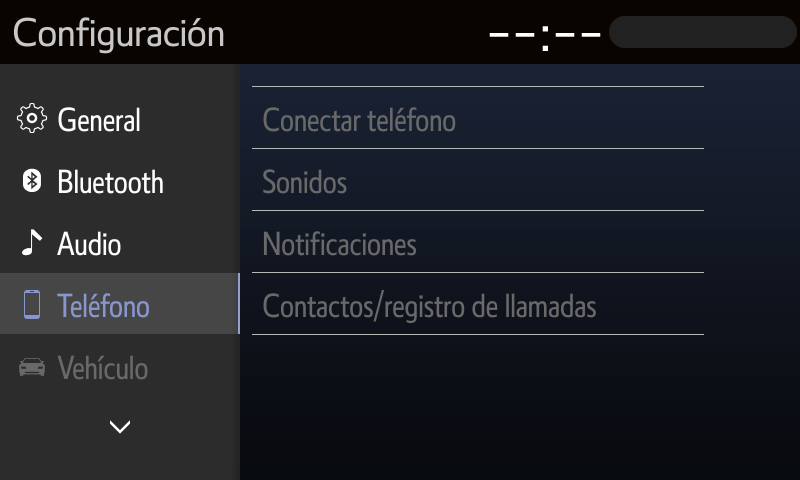touchPart: (13, 158, 171, 205), (12, 95, 161, 139), (12, 226, 158, 266), (104, 411, 140, 443)
untouchPart: (246, 267, 714, 341), (249, 141, 711, 215), (248, 205, 714, 278), (250, 82, 710, 152), (1, 270, 240, 338), (481, 10, 796, 54), (6, 11, 232, 54), (10, 349, 155, 390)
